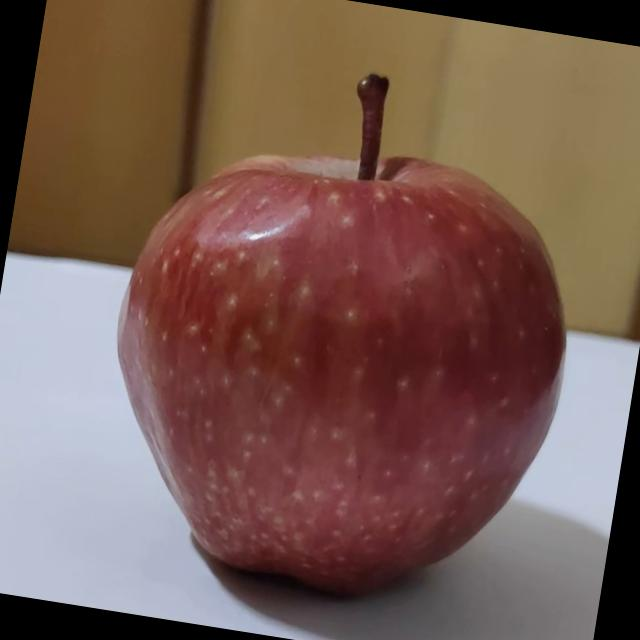apple: (0, 1, 632, 640)
